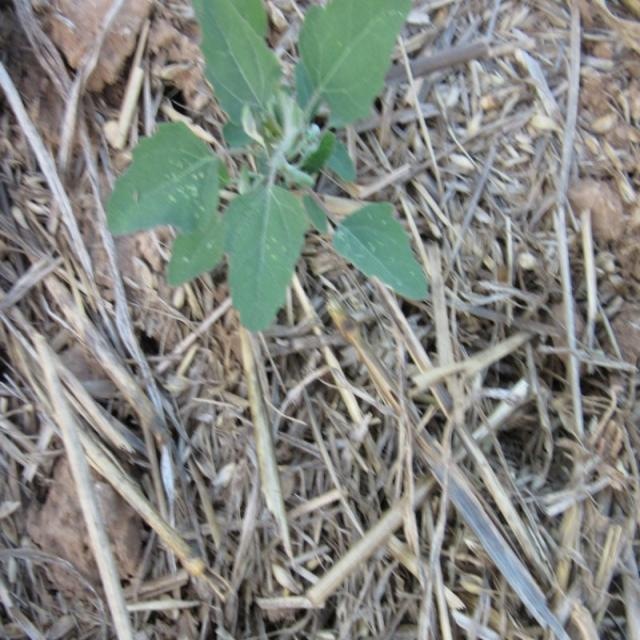ca: (103, 0, 432, 333)
